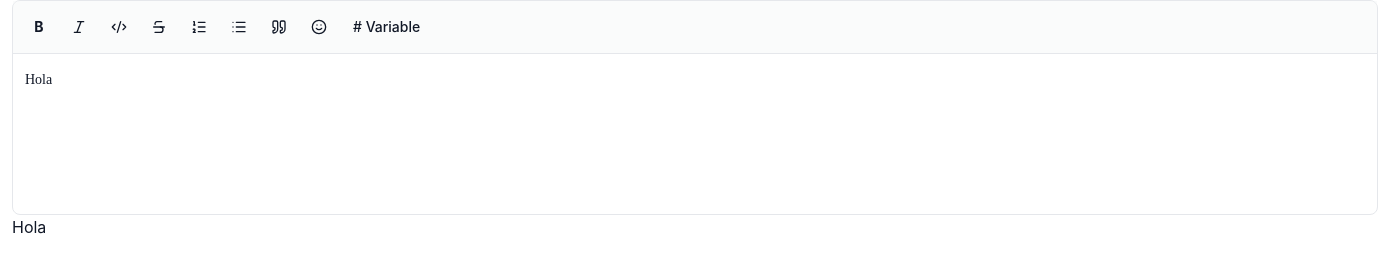
Scenario: named variables › cancels empty insertion and Escape without persisting braces
This screenshot has width=1378, height=254.
Click the button with aria-label "Insertar variable" at x=387, y=27, box [341, 11, 432, 43]
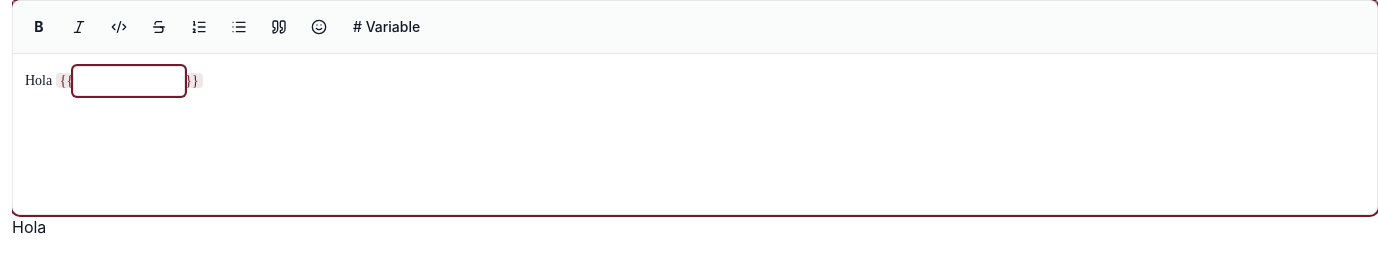
Press Escape in the field named "Nombre de variable inline", box [73, 66, 185, 96]
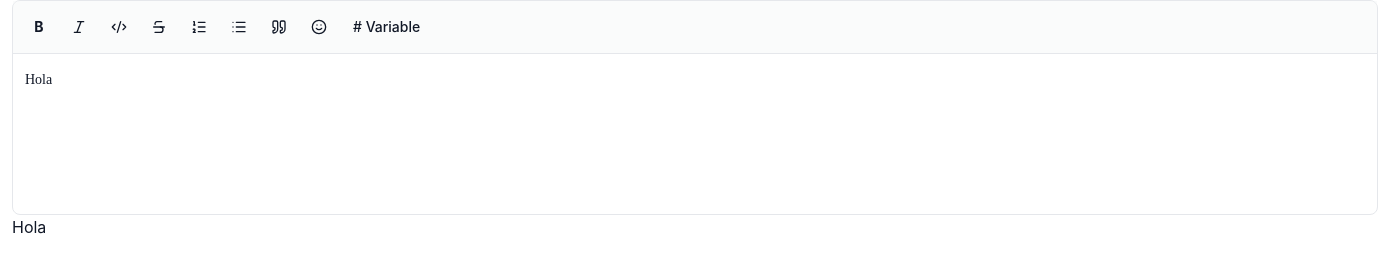
Check: the text with test id "value" reads "Hola", box [12, 217, 46, 237]
Check: the field named "Cuerpo" reads "Hola", box [25, 72, 56, 87]
